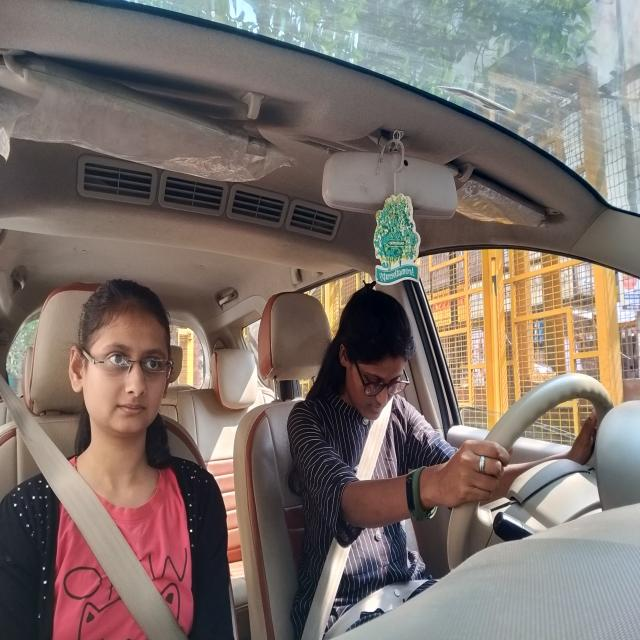drowsy: (329, 286, 422, 462)
person: (69, 270, 179, 460)
